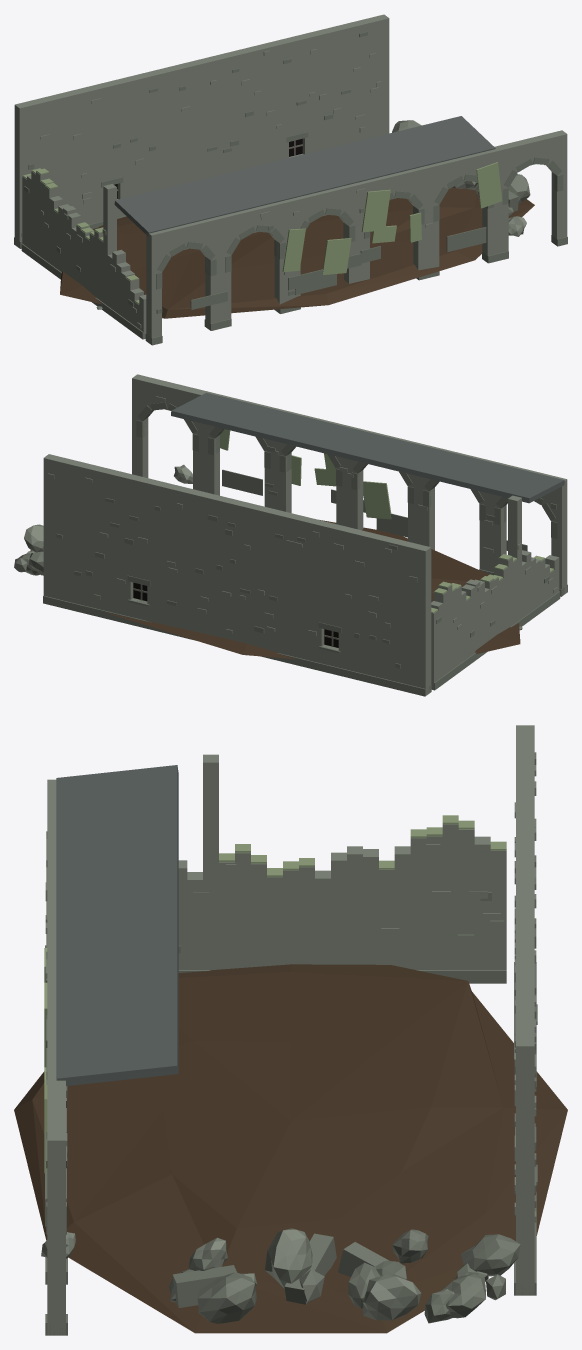
File: greyfen-monastery-ruin.glb
The picture shows the model from 3 angles, top to bottom: view 1: azimuth 30°, elevation 25°; view 2: azimuth 150°, elevation 25°; view 3: azimuth 270°, elevation 25°; orthographic projection. The views are drawn at different scales.
Visible parts, largest first — view 1: Body_Stone, Body_Peat, Body_Slate, Body_StoneDark, Body_Moss; view 2: Body_Stone, Body_Slate, Body_StoneDark, Body_Peat, Body_Moss, Body_Dark; view 3: Body_Peat, Body_Stone, Body_Slate, Body_StoneDark, Body_Moss.
Boxes of the visible parts, x1,y1,x2,y2 form: Body_Stone: [14, 14, 567, 344]; Body_Peat: [60, 187, 534, 318]; Body_Slate: [114, 116, 495, 236]; Body_StoneDark: [14, 31, 567, 345]; Body_Moss: [23, 162, 502, 304]; Body_Stone: [24, 374, 567, 695]; Body_Slate: [171, 392, 564, 503]; Body_StoneDark: [14, 402, 567, 696]; Body_Peat: [30, 520, 520, 659]; Body_Moss: [220, 429, 553, 613]; Body_Dark: [133, 582, 338, 647]; Body_Peat: [14, 964, 567, 1333]; Body_Stone: [41, 725, 536, 1335]; Body_Slate: [56, 765, 178, 1085]; Body_StoneDark: [45, 752, 537, 1335]; Body_Moss: [44, 815, 506, 1173].
Size of the model in its own units: 20 by 6 by 12.
